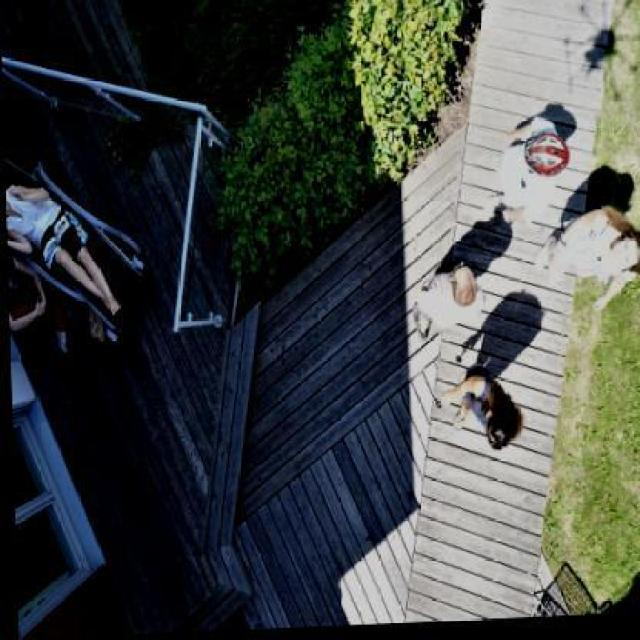Person: (5, 177, 140, 328), (524, 205, 638, 328), (479, 119, 559, 246), (423, 366, 525, 462), (5, 254, 86, 369), (403, 264, 486, 348)
